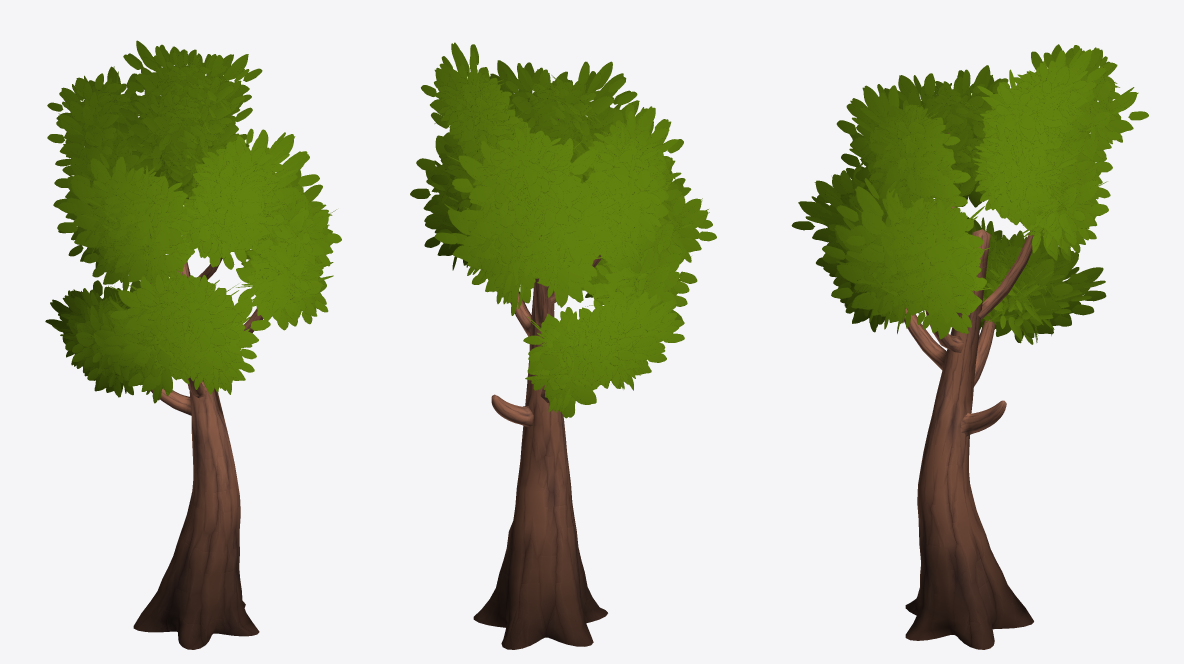
The model's file is CommonTree_5.gltf.
3 renders of one model, left to right at view 1: azimuth 30°, elevation 25°; view 2: azimuth 150°, elevation 25°; view 3: azimuth 270°, elevation 25°, orthographic. The views are drawn at different scales.
Visible parts, largest first — view 1: CommonTree_5; view 2: CommonTree_5; view 3: CommonTree_5.
Boxes of the visible parts, <box> form: CommonTree_5: <box>45,40,341,649</box>; CommonTree_5: <box>410,42,716,649</box>; CommonTree_5: <box>791,44,1148,649</box>.
Bounding box in the file's own units: 3.67 × 7.01 × 4.22.
Materials: 2 (2 with a texture image).
